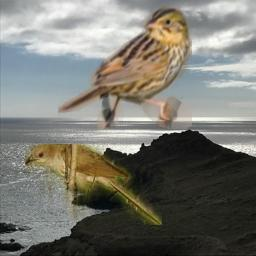Cuckoo: (25, 144, 162, 225)
Sparrow: (58, 6, 192, 129)
